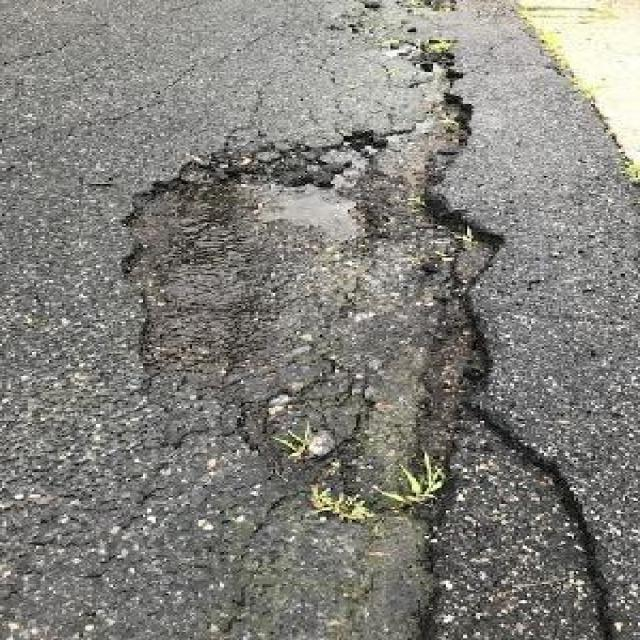pothole: (115, 47, 514, 524)
